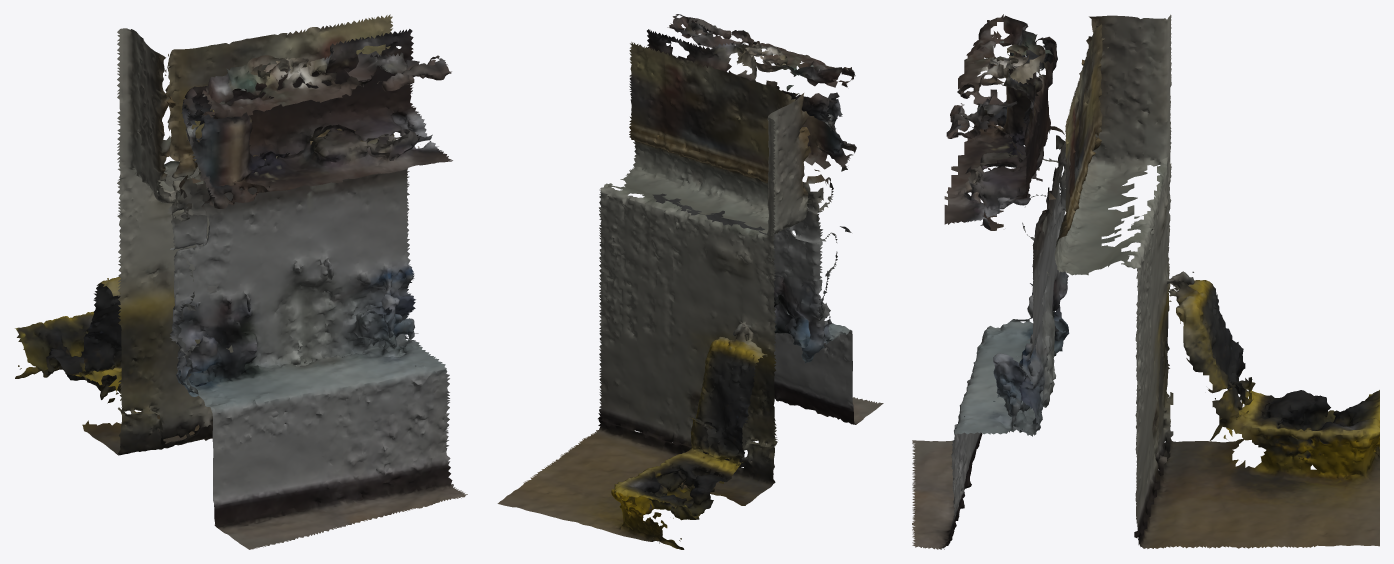
The model's file is fine.glb.
The picture shows the model from 3 angles, left to right: view 1: azimuth 30°, elevation 25°; view 2: azimuth 150°, elevation 25°; view 3: azimuth 270°, elevation 25°; orthographic projection. The views are drawn at different scales.
Size of the model in its own units: 0.6999 by 1.29 by 1.27.
